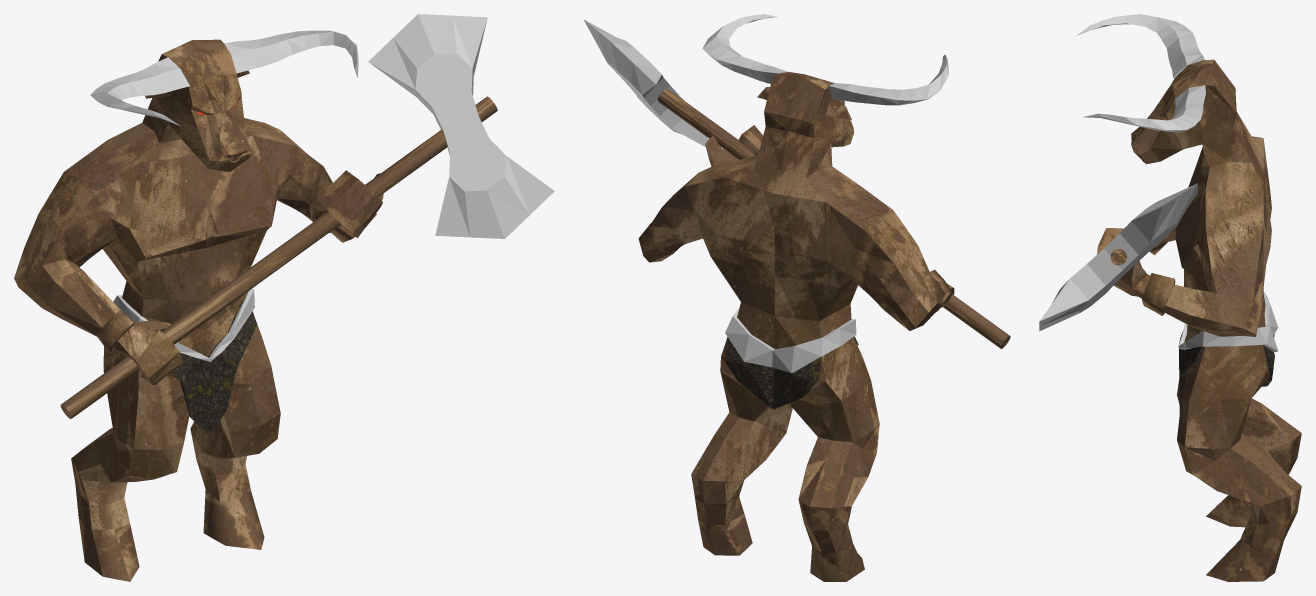
Rendered from a_minotaver.gltf.
3 views of the same model, side by side, from view 1: azimuth 30°, elevation 25°; view 2: azimuth 150°, elevation 25°; view 3: azimuth 270°, elevation 25° (orthographic). The views are drawn at different scales.
Parts seen in each view (by area): view 1: Cube, Cube.005, Cylinder, Cube.001, kiklca, Cube.003, Cube.007, pas, Cube.006; view 2: Cube, Cube.005, pas, kiklca, Cylinder, Cube.007, Cube.003, Cube.001; view 3: Cube, Cube.005, Cube.007, Cube.003, Cube.001, pas, kiklca, Cube.002.
Part boxes in pixels (bbox=[...]): Cube: bbox=[14, 39, 383, 576]; Cube.005: bbox=[368, 14, 554, 238]; Cylinder: bbox=[60, 96, 497, 418]; Cube.001: bbox=[79, 489, 264, 581]; kiklca: bbox=[122, 293, 257, 434]; Cube.003: bbox=[224, 30, 358, 77]; Cube.007: bbox=[90, 57, 189, 125]; pas: bbox=[113, 288, 254, 361]; Cube.006: bbox=[97, 310, 135, 352]; Cube: bbox=[638, 71, 954, 581]; Cube.005: bbox=[583, 19, 708, 147]; pas: bbox=[725, 308, 856, 373]; kiklca: bbox=[724, 331, 858, 409]; Cylinder: bbox=[657, 89, 1010, 348]; Cube.007: bbox=[829, 55, 948, 105]; Cube.003: bbox=[702, 14, 787, 83]; Cube.001: bbox=[698, 513, 864, 581]; Cube: bbox=[1097, 59, 1301, 581]; Cube.005: bbox=[1039, 183, 1197, 331]; Cube.007: bbox=[1075, 14, 1204, 78]; Cube.003: bbox=[1083, 85, 1205, 132]; Cube.001: bbox=[1206, 495, 1251, 581]; pas: bbox=[1178, 292, 1278, 352]; kiklca: bbox=[1179, 334, 1274, 413]; Cube.002: bbox=[1142, 273, 1175, 315].
Size of the model in its own units: 8.7 by 9.7 by 4.81.
